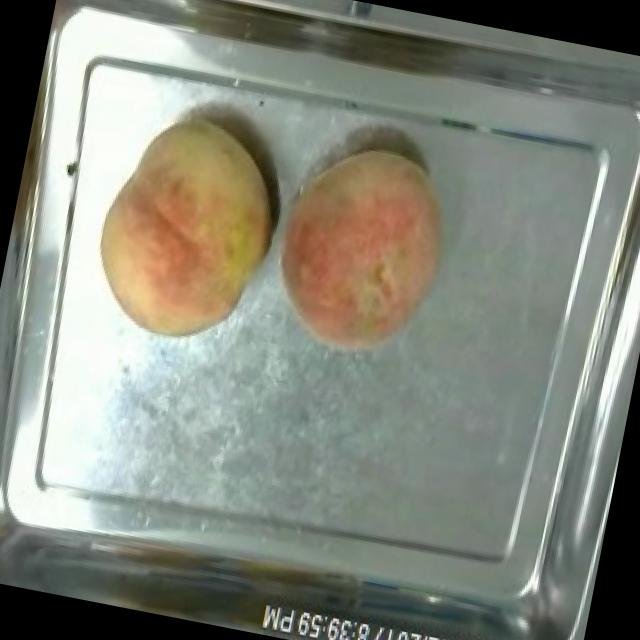Fruit: (72, 98, 300, 356), (249, 127, 469, 374)
